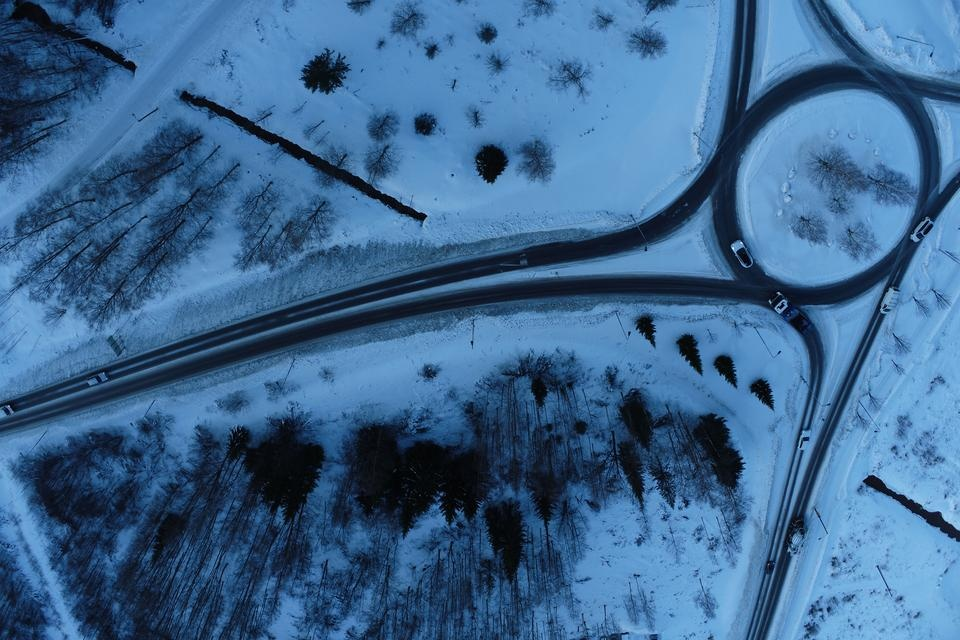roundabout: (686, 43, 960, 324)
